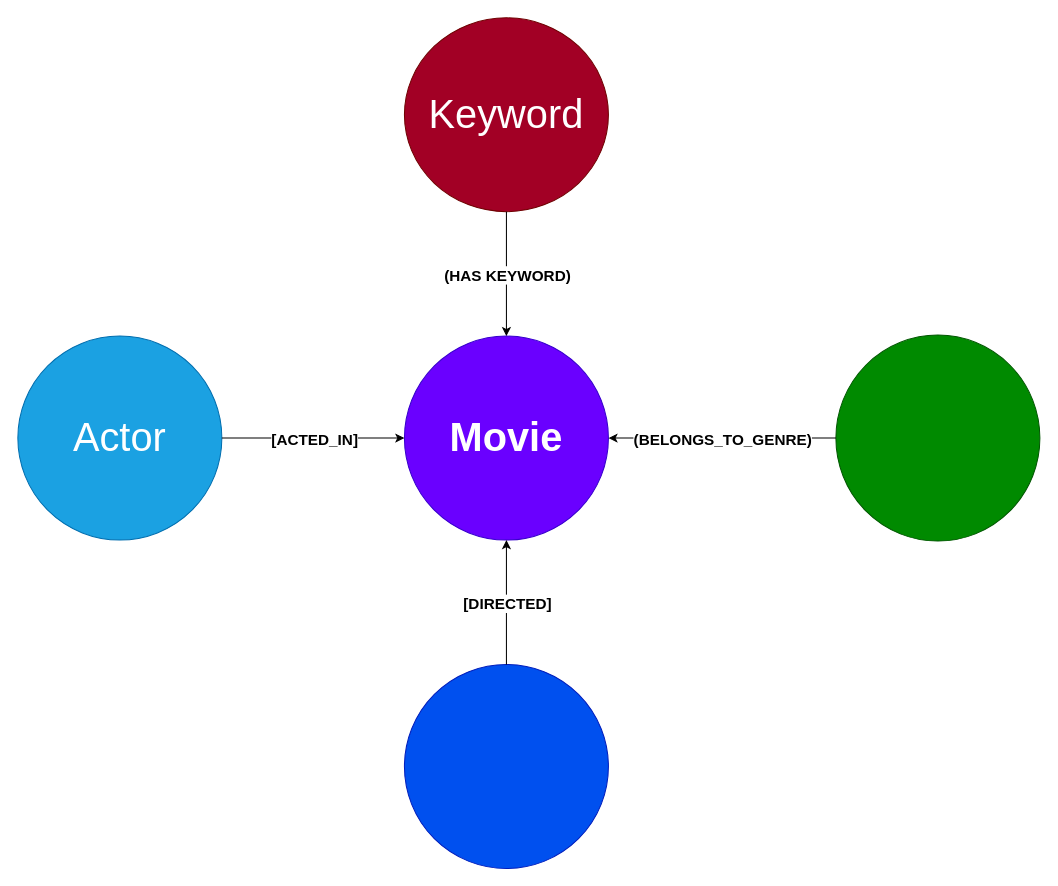
This 1058x886 diagram has some shape labels left out. The shapes that lost their labels are listed below. From the top down, each one's centre as x and y in pixels, then its label:
point (937, 437): Genre
point (505, 766): Director
